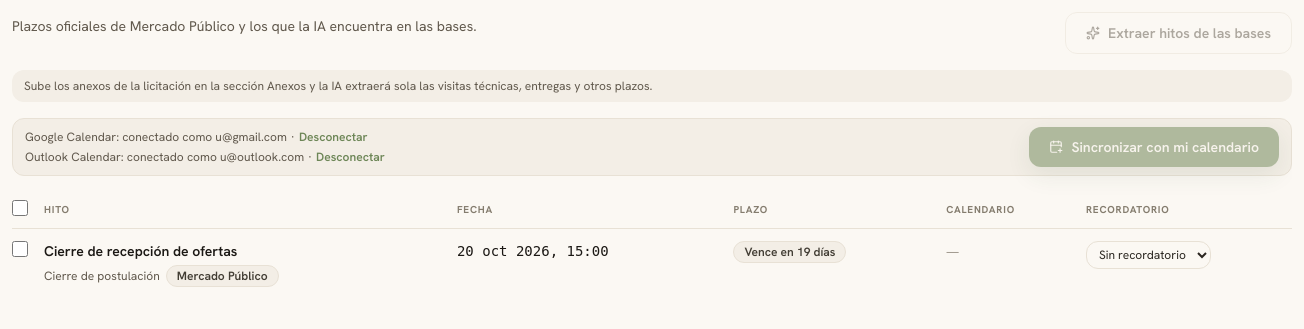
Scenario: MilestonesSection › botón Sincronizar con mi calendario (criterio 2) › elegir Outlook en el menú sincroniza con Outlook
The width and height of the screenshot is (1304, 329).
What coordinates should you click on to do the following:
click the checkbox named "seleccionar cierre"
I would click on:
 (20, 249)
Its box is [12,241,28,257].
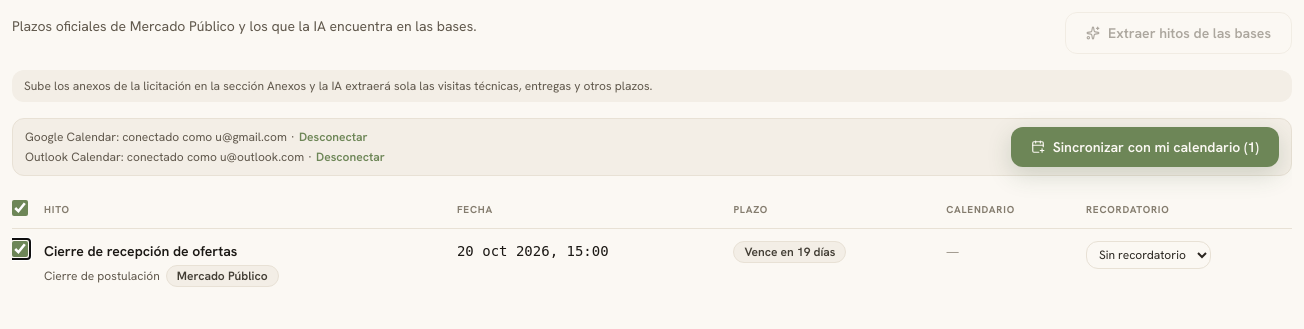
What coordinates should you click on to do the following:
click the button "Sincronizar con mi calendario (1)"
I would click on:
 (1145, 147)
Its box is [1011,127,1279,167].
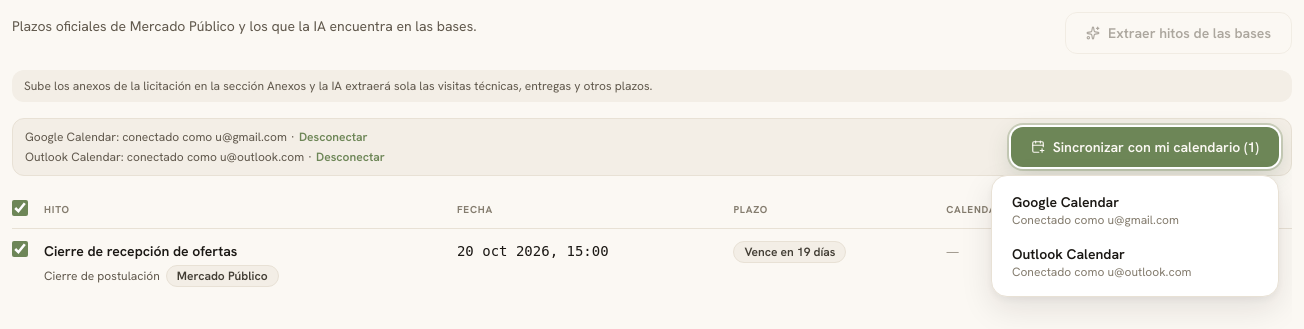
What coordinates should you click on to do the following:
click the menu item "Outlook Calendar Conectado como u@outlook.com"
I would click on:
 (1135, 262)
Its box is [1000,236,1270,288].
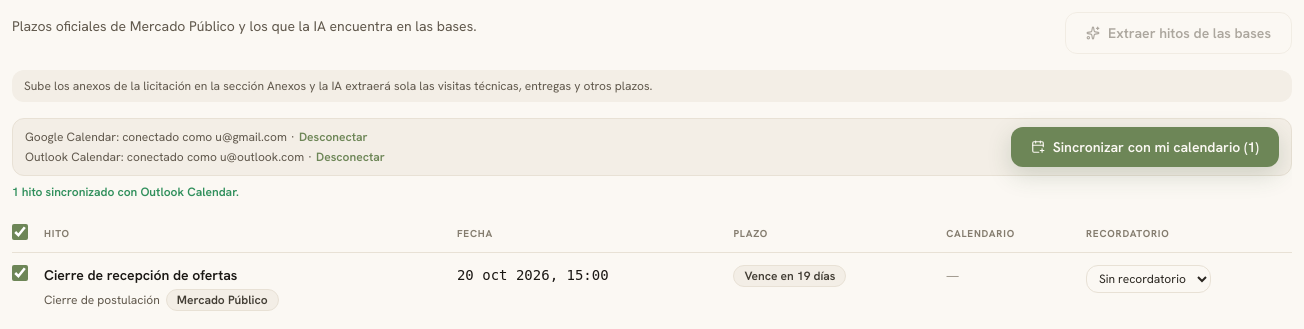
Now the text "1 hito sincronizado con Outlook Calendar." is shown, box [12,184,239,200]
Now the menu is gone
